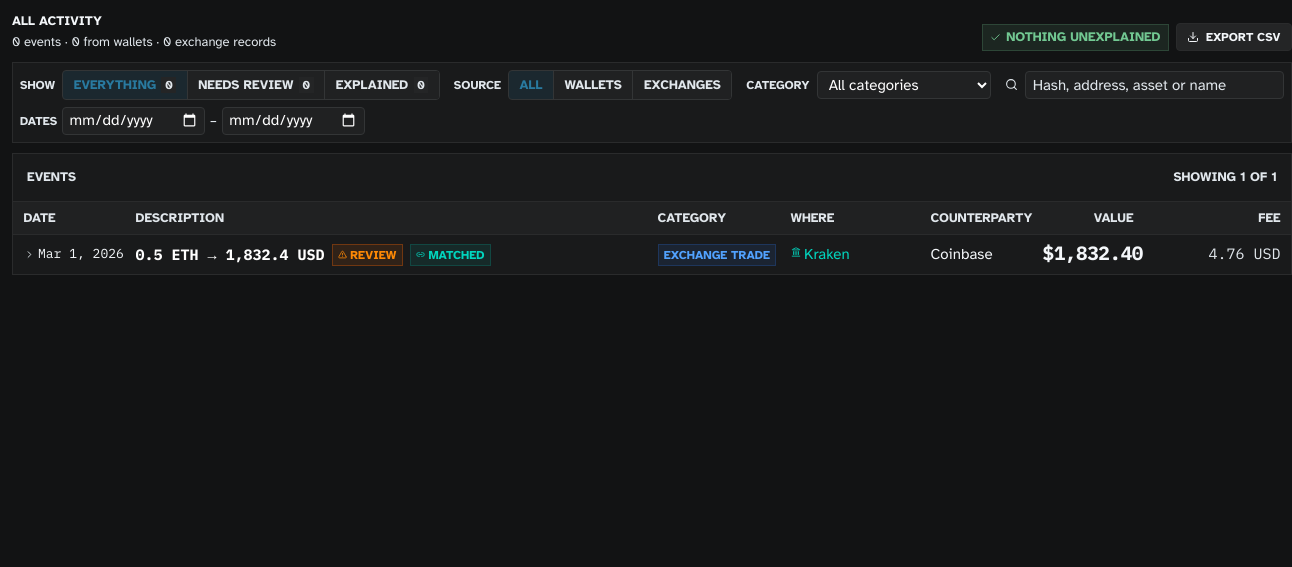
Test: CryptoLedger › does not offer to resolve a record that is already clear
Click the text "0.5 ETH → 1,832.4 USD". click: {"x": 230, "y": 255}
box: [136,244,324,266]
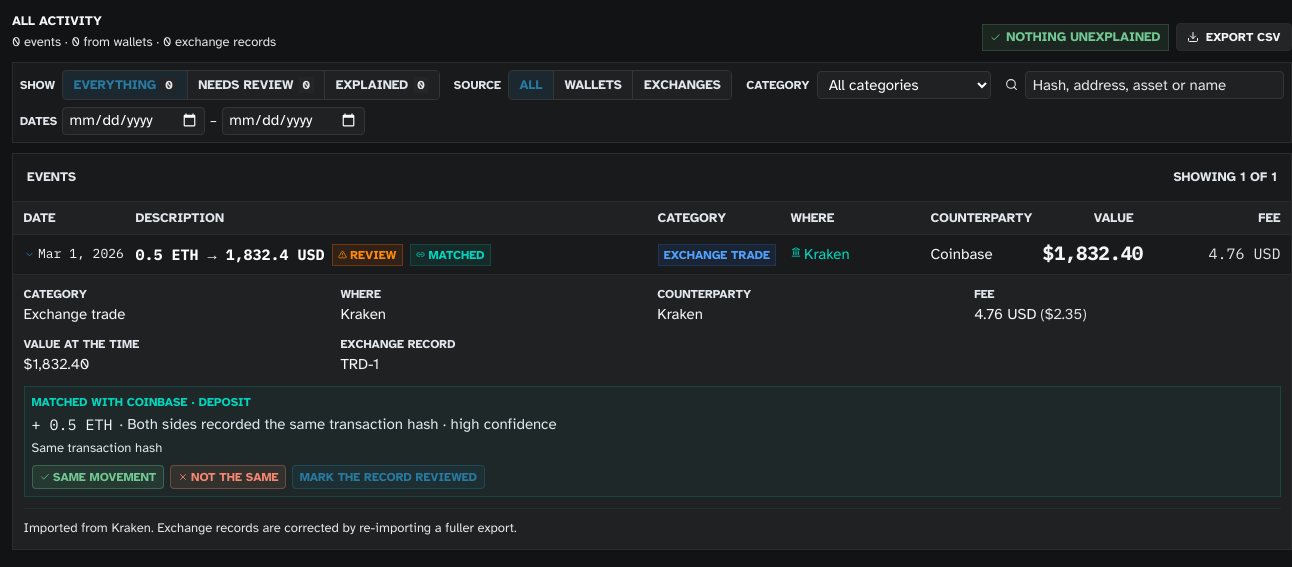
Now the button "Mark the record reviewed" is shown, box [292,465,485,489]
